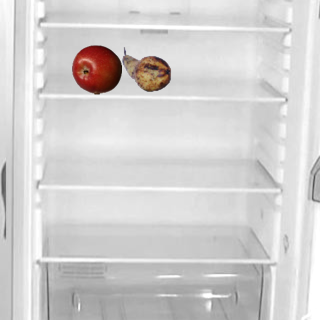Apple Braeburn: (71, 44, 121, 94)
Pear Abate: (121, 44, 171, 94)
